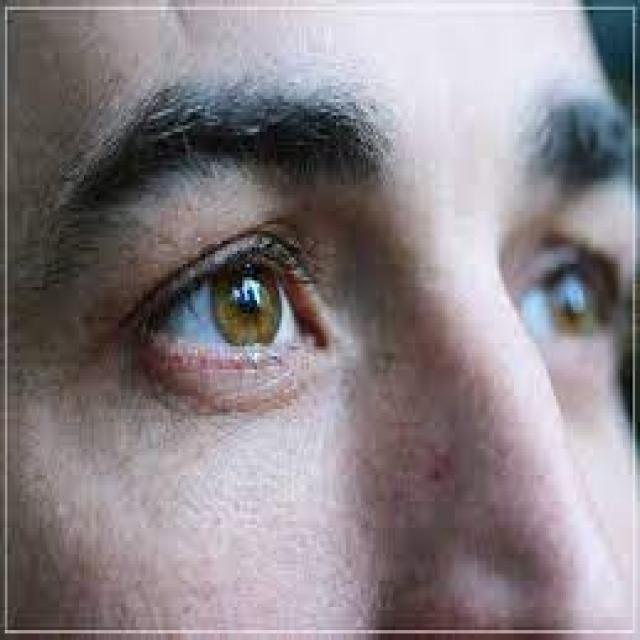Eyes-iris: (202, 249, 290, 355)
